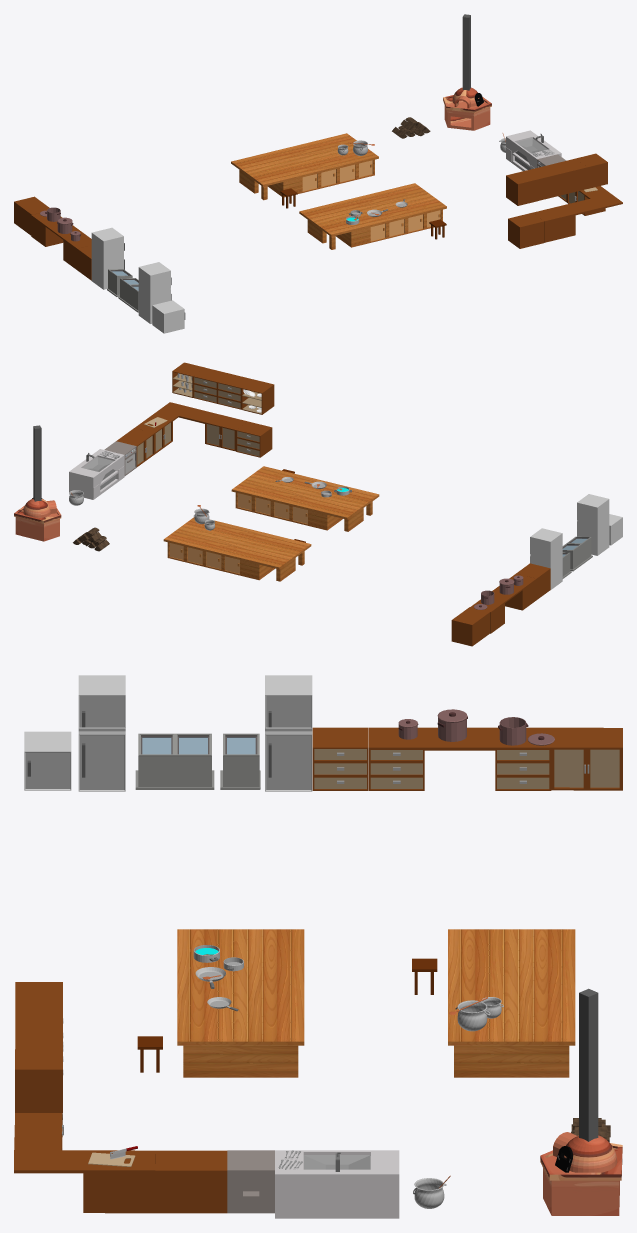
The model's file is Cozinha.fbx.
3 views of the same model, one above another, from view 1: azimuth 30°, elevation 25°; view 2: azimuth 150°, elevation 25°; view 3: azimuth 270°, elevation 25° (orthographic). The views are drawn at different scales.
Visible parts, largest first — view 1: Cozinha; view 2: Cozinha; view 3: Cozinha.
Part boxes in pixels (bbox=[...]): Cozinha: bbox=[14, 14, 622, 333]; Cozinha: bbox=[14, 362, 622, 646]; Cozinha: bbox=[14, 675, 622, 1218].
Size of the model in its own units: 397 by 88.38 by 228.
